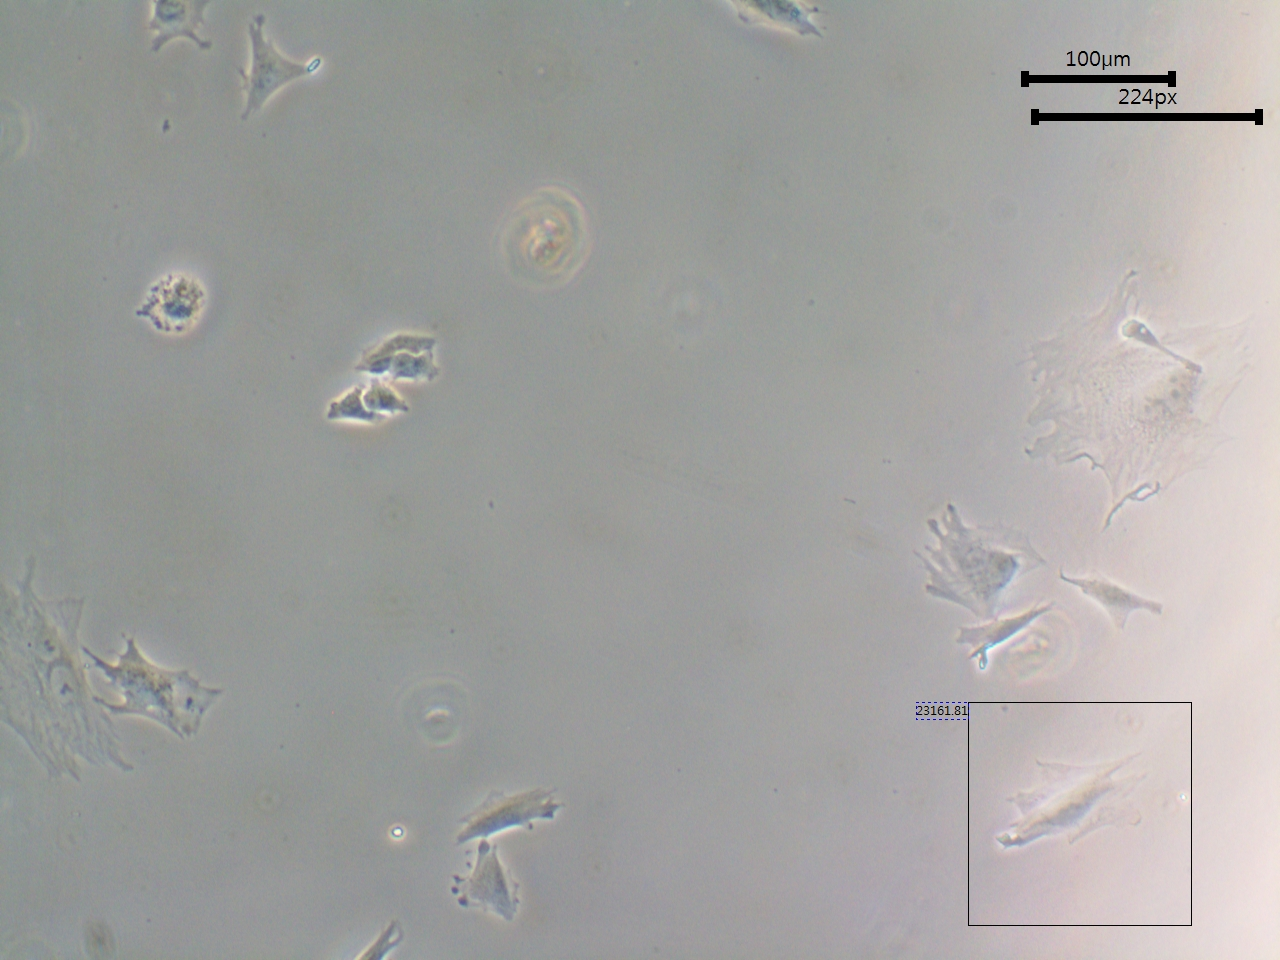medium-spread: (1014, 242, 1261, 520), (879, 492, 1055, 626), (82, 644, 236, 752)
small-polygonal: (238, 6, 328, 133), (424, 790, 577, 851), (1053, 562, 1183, 630), (937, 608, 1061, 679), (437, 838, 527, 923)
small-spread: (130, 266, 223, 341)
